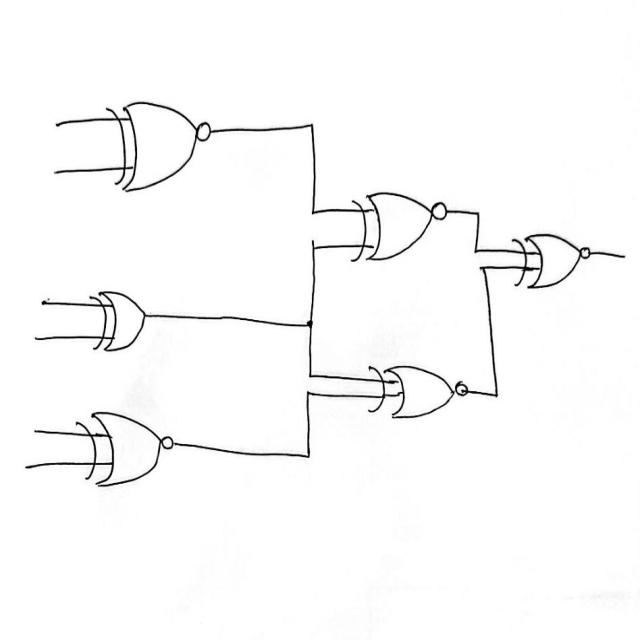XNOR: (98, 95, 230, 214), (362, 342, 479, 436), (339, 181, 457, 274), (64, 410, 183, 499), (508, 223, 612, 315)
XOR: (84, 281, 161, 360)
